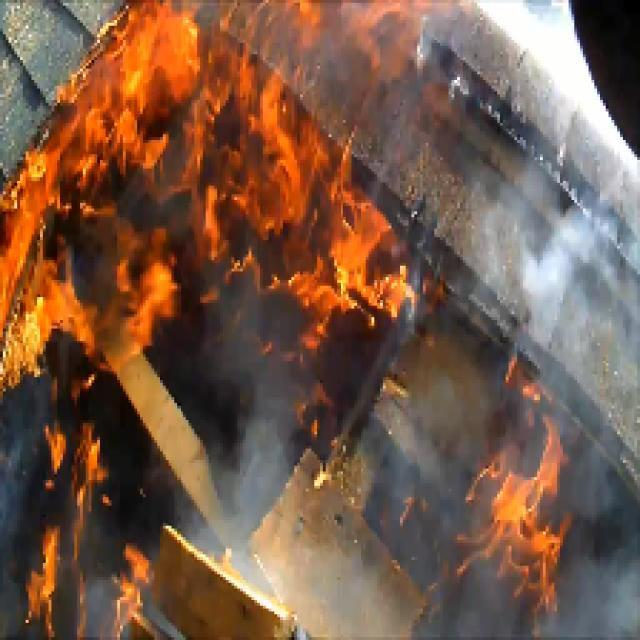Fire: (113, 0, 428, 298), (5, 154, 96, 638), (462, 418, 562, 622)
